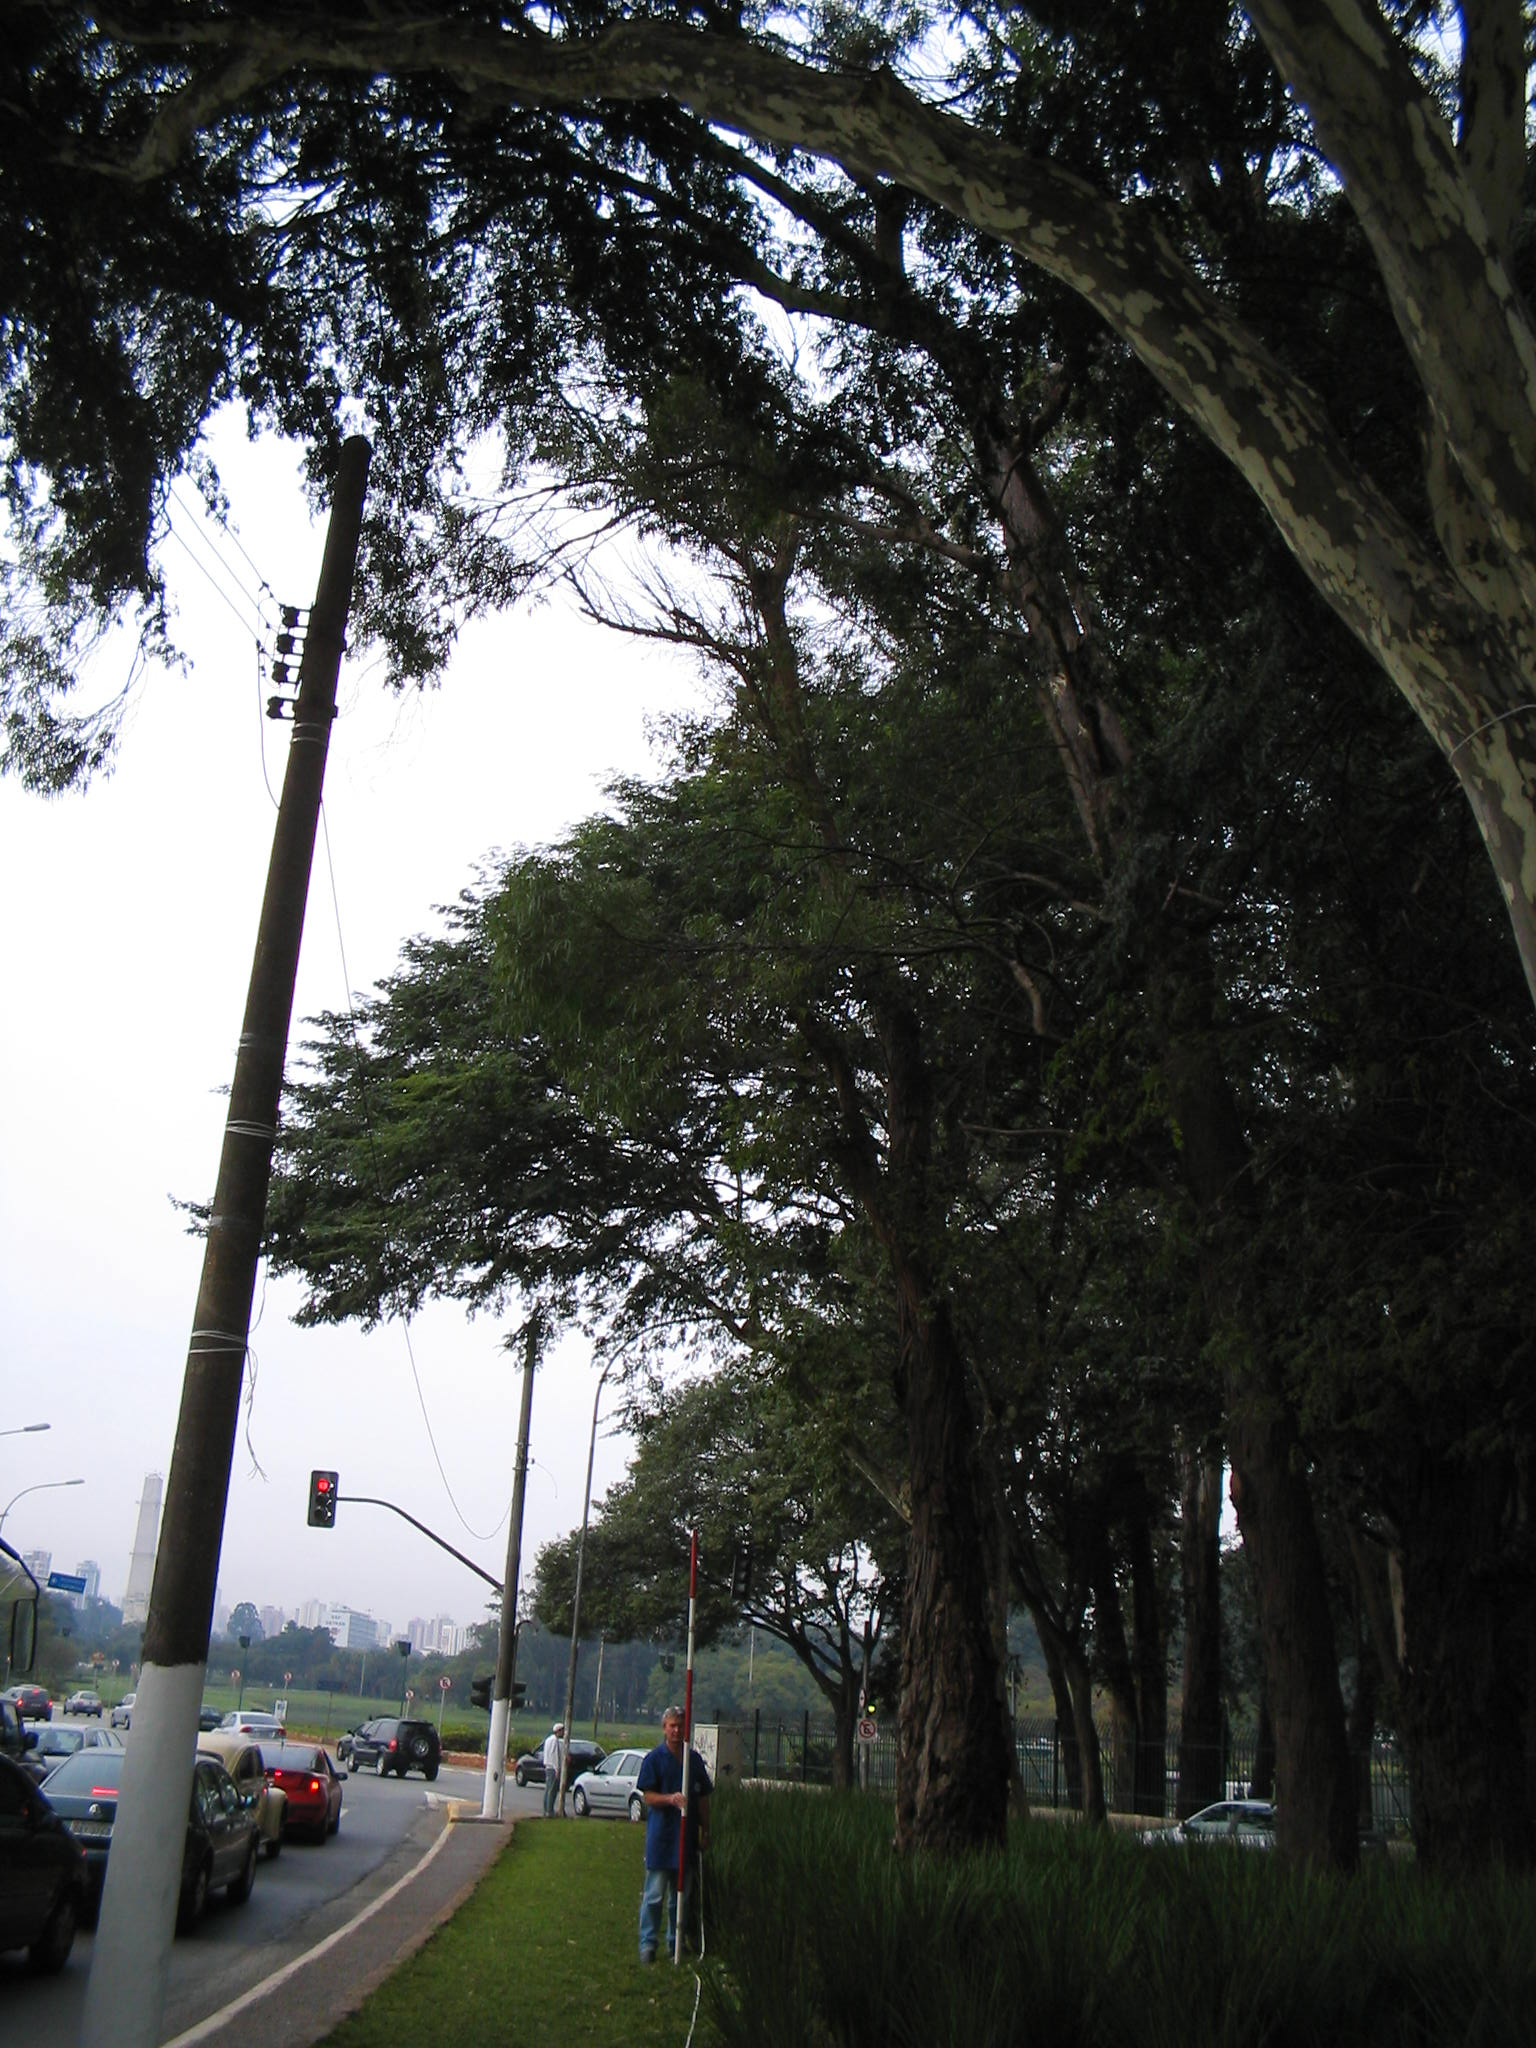stick: (649, 1521, 707, 1961)
